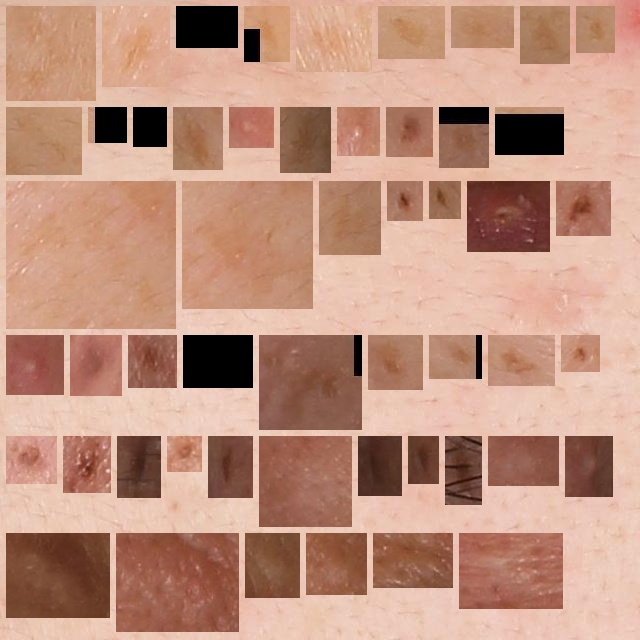hypertrophic_scar: (124, 541, 231, 624), (14, 541, 102, 610), (267, 444, 344, 519), (467, 541, 555, 601), (381, 541, 445, 580), (314, 541, 359, 587), (253, 541, 292, 590), (496, 444, 551, 478)
melasma: (14, 189, 168, 321), (190, 189, 305, 301), (267, 343, 354, 422), (14, 14, 88, 93), (110, 14, 162, 79), (14, 115, 74, 167), (304, 14, 364, 64), (327, 189, 373, 247), (191, 343, 245, 380), (386, 14, 437, 51), (496, 343, 547, 378), (503, 115, 556, 147), (447, 115, 481, 160), (376, 343, 415, 382), (528, 14, 562, 56), (459, 14, 506, 40), (252, 14, 282, 54), (437, 343, 474, 371), (584, 14, 607, 45)
nevus: (78, 343, 114, 388), (181, 115, 215, 162), (216, 444, 245, 490), (71, 444, 103, 485), (125, 444, 153, 490), (366, 444, 394, 488), (136, 343, 169, 380), (184, 14, 230, 40), (14, 444, 49, 476), (453, 444, 474, 497), (394, 115, 425, 149), (569, 343, 592, 364), (395, 189, 415, 213), (416, 444, 431, 476), (141, 115, 159, 139), (175, 444, 194, 464), (437, 189, 453, 211)
pustule: (475, 189, 542, 244), (14, 343, 56, 387), (573, 444, 605, 489), (345, 115, 372, 148), (237, 115, 266, 140)
